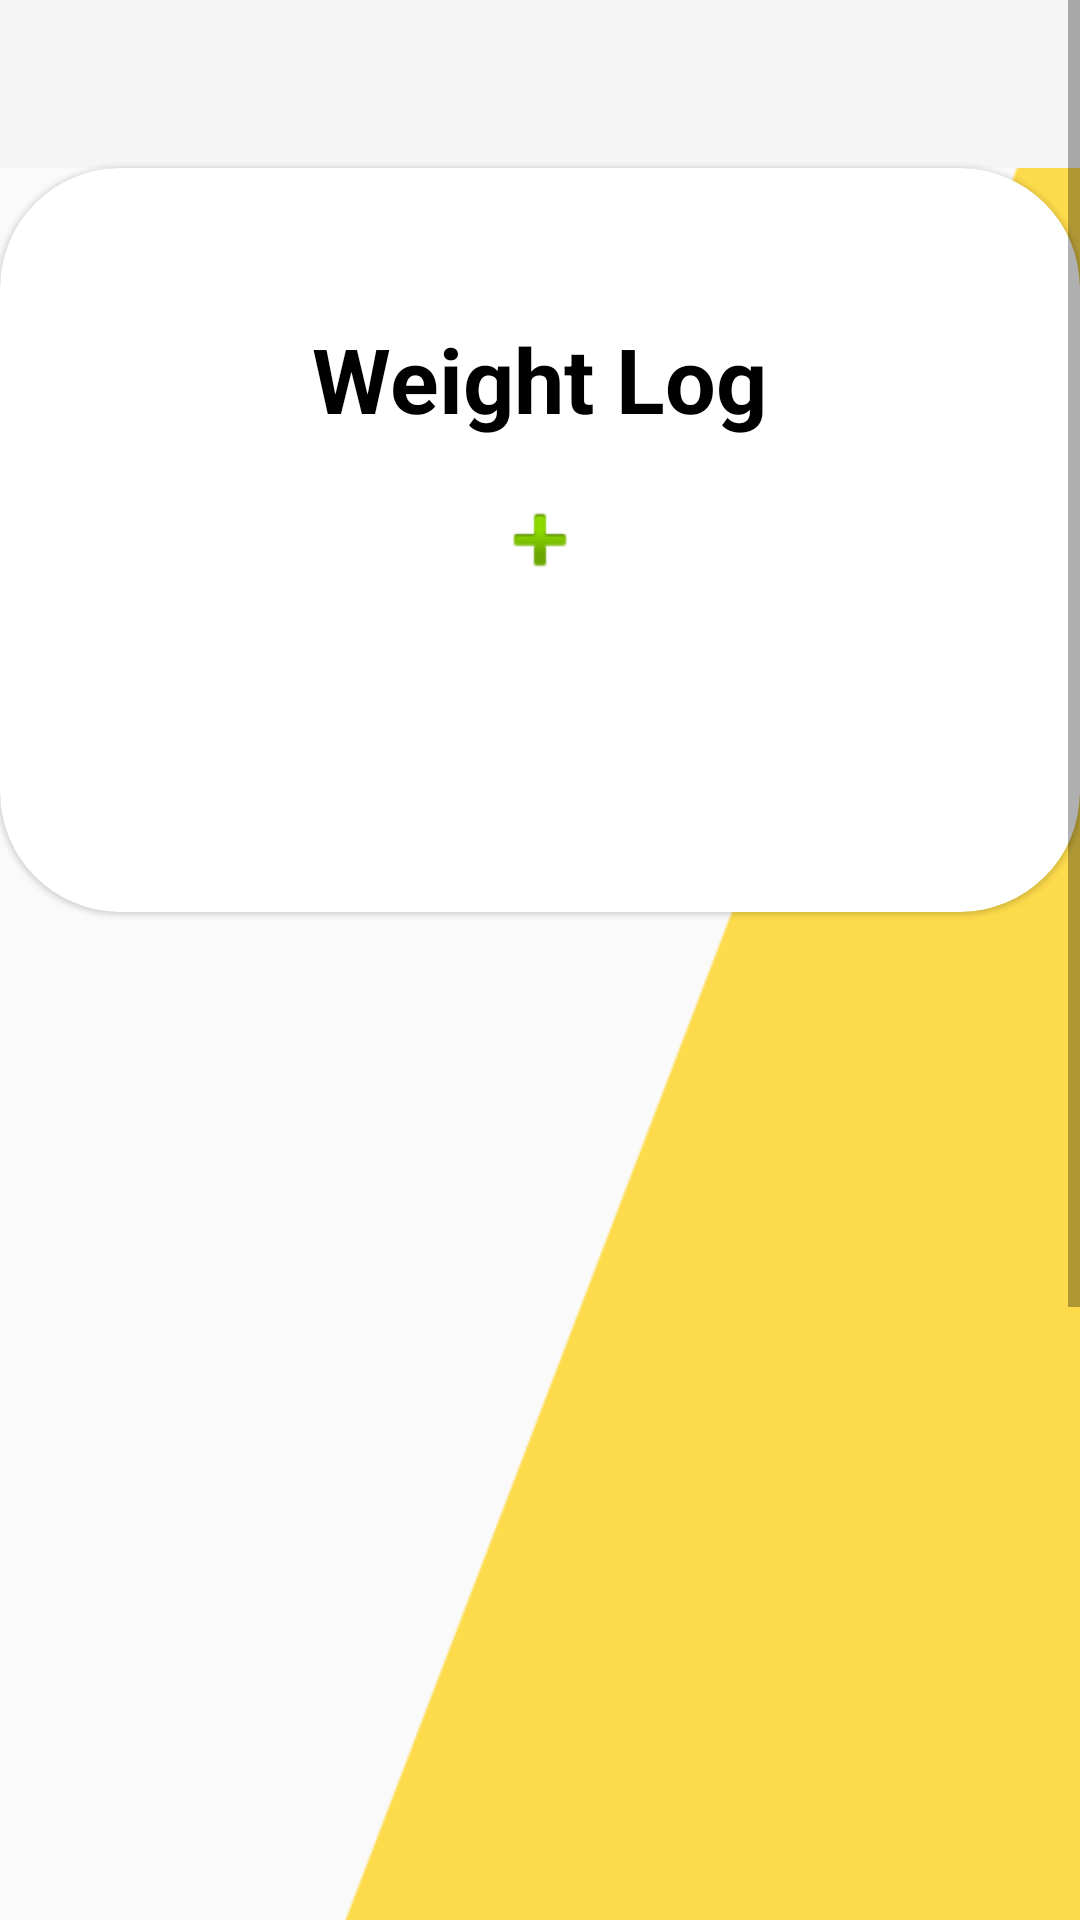

Icons on this 1080w x 1920h Android screen, each with its box as (x1, y1, x2, y2):
add: (513, 513, 567, 567)
